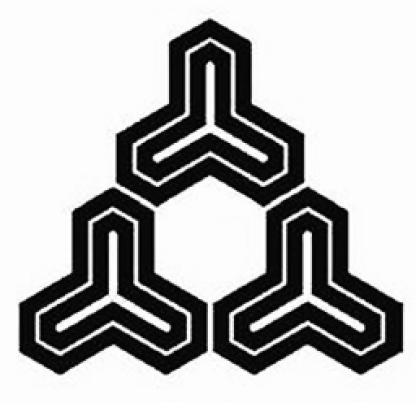kamon: (16, 16, 406, 379)
